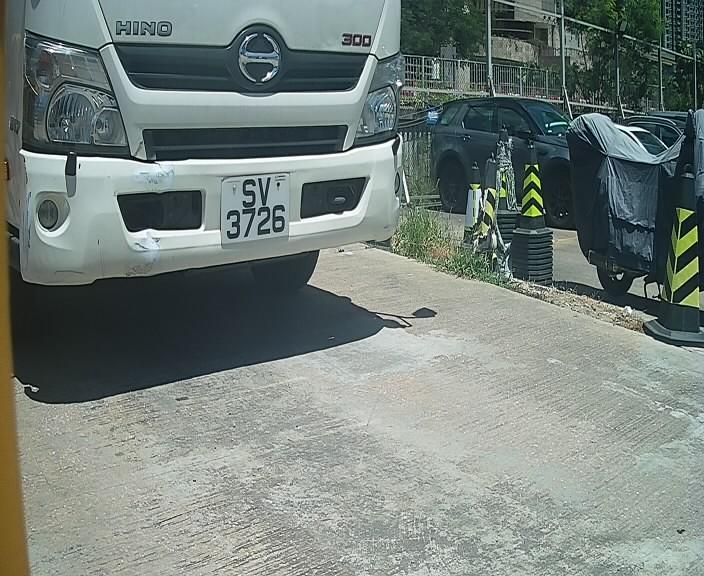License Plate: (202, 160, 309, 258)
